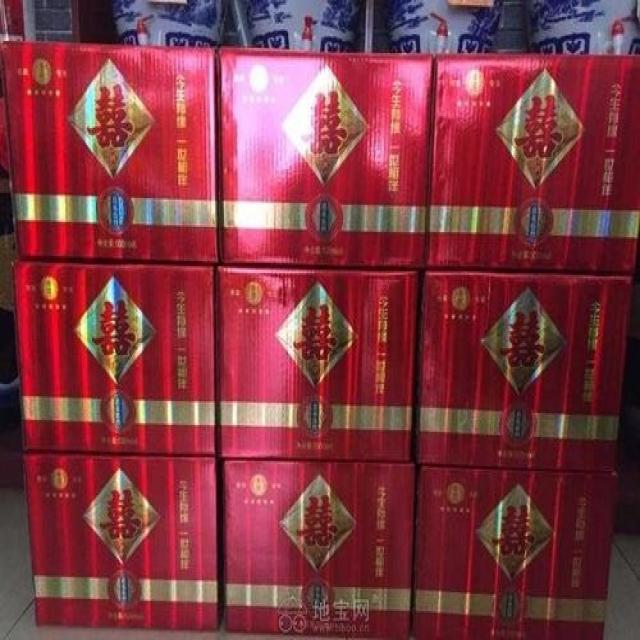box: (1, 43, 219, 263), (220, 47, 435, 270), (428, 55, 639, 275), (418, 272, 632, 473), (12, 260, 218, 455), (218, 267, 420, 463), (23, 451, 223, 632), (411, 464, 617, 638), (220, 459, 414, 638)
